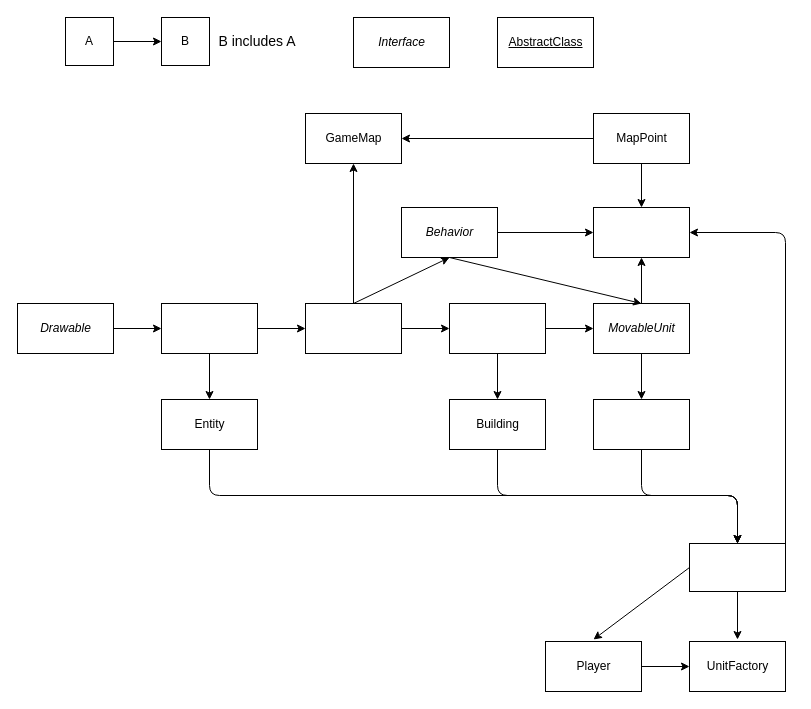
This 811x709 diagram has some shape labels left out. Each missing label, with the centre of its shape:
Abstract ImmovableUnit: the point at 353,328
Abstract UnitFactory: the point at 737,567
Behaviors: the point at 641,232
DrawableEntity: the point at 209,328
ImmovableUnit: the point at 497,328
Unit: the point at 641,424
